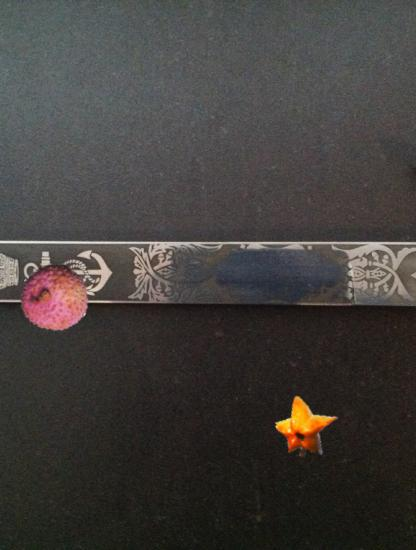Carambula: (274, 398, 335, 459)
Lychee: (20, 263, 90, 333)
